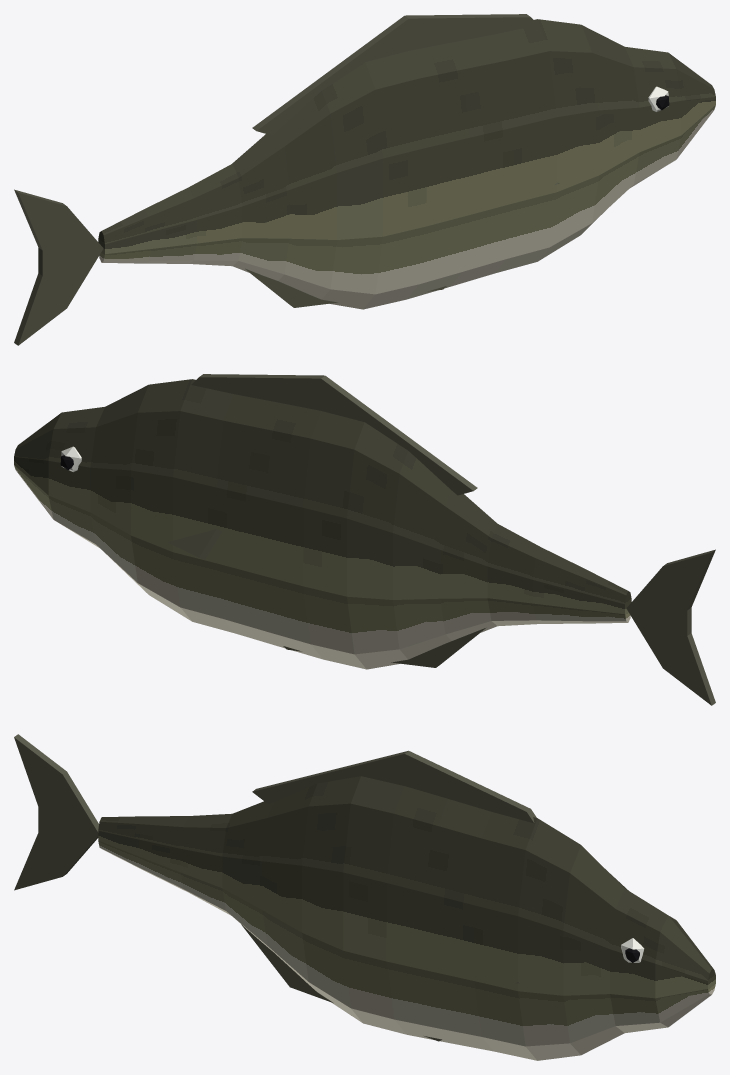
Rendered from australian_bass.glb.
3 views of the same model, one above another, from view 1: azimuth 30°, elevation 25°; view 2: azimuth 150°, elevation 25°; view 3: azimuth 330°, elevation 25° (orthographic).
Visible parts, largest first — view 1: fish_australian_bass; view 2: fish_australian_bass; view 3: fish_australian_bass.
Boxes of the visible parts, x1=… form: fish_australian_bass: x1=14, y1=14, x2=715, y2=345; fish_australian_bass: x1=14, y1=374, x2=715, y2=705; fish_australian_bass: x1=14, y1=734, x2=715, y2=1060.
Bounding box in the file's own units: 1.14 × 0.4423 × 0.1417.
4 materials, 1 textured.
